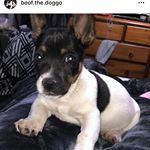puppy: (13, 14, 108, 149)
